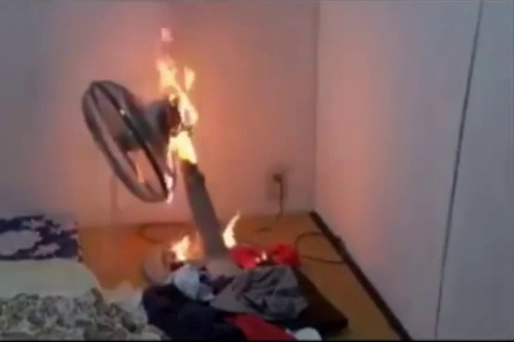fire: (152, 37, 214, 160)
